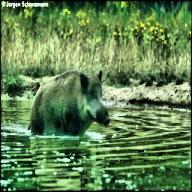boar: (27, 70, 110, 137)
